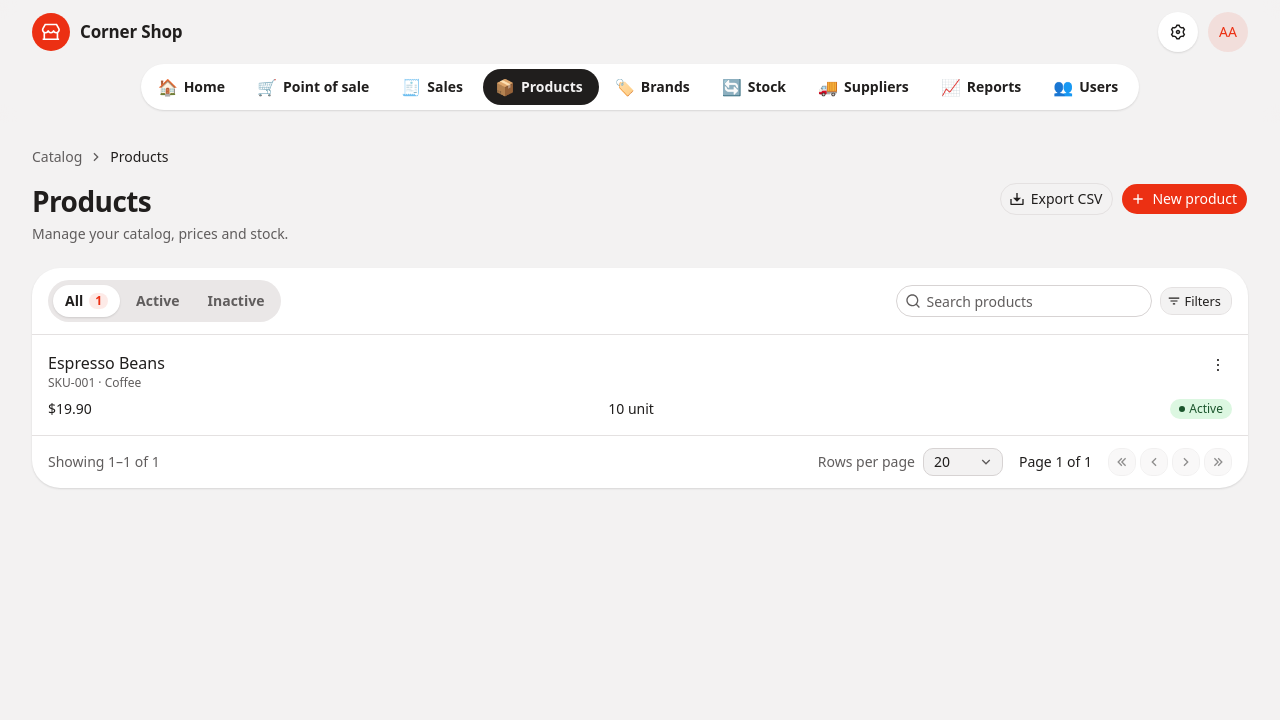
Scenario: ProductListPage (compact) › keeps the row actions on the cards
Expected: the link "Espresso Beans" is shown, [48,351,165,375]
Click the button named "Actions" at (1218, 365), box [1204,351,1232,379]
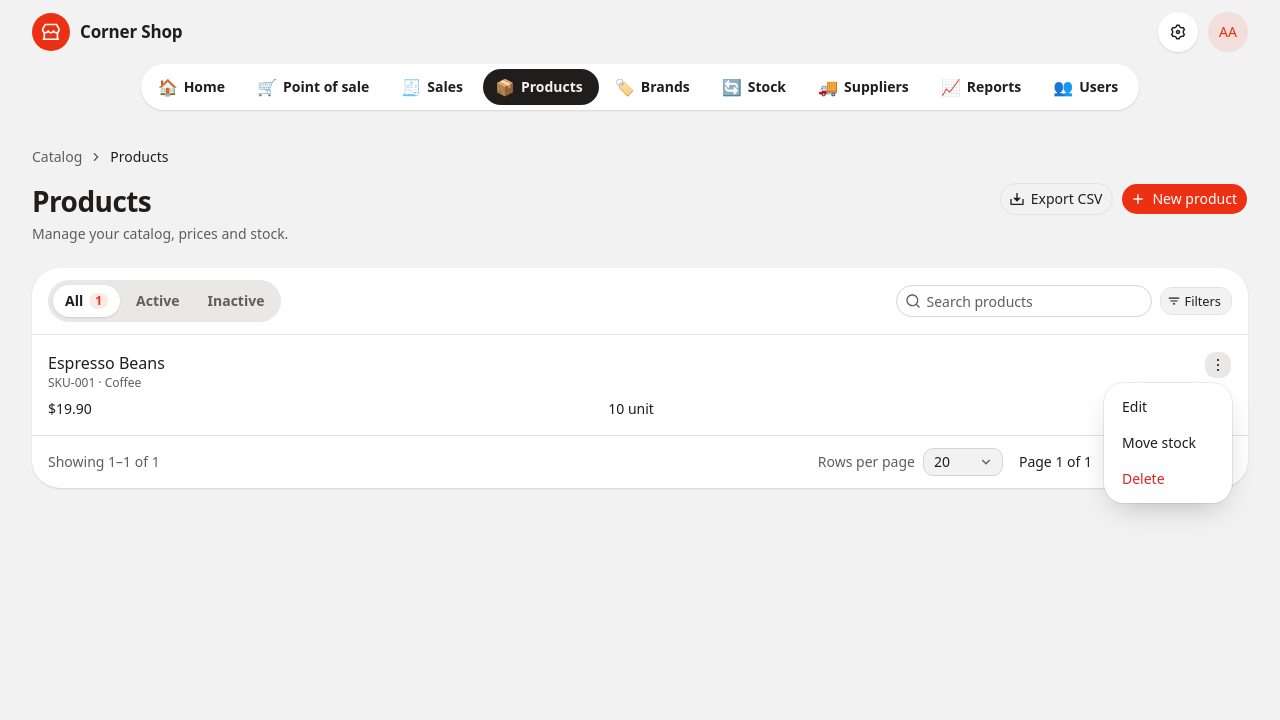
Expected: the menu item "Delete" is shown, [1122,469,1165,488]
